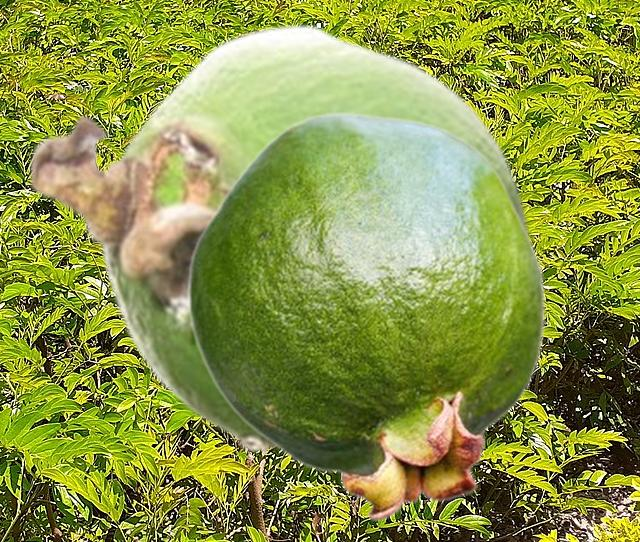guava: (26, 21, 533, 452), (186, 112, 545, 521)
